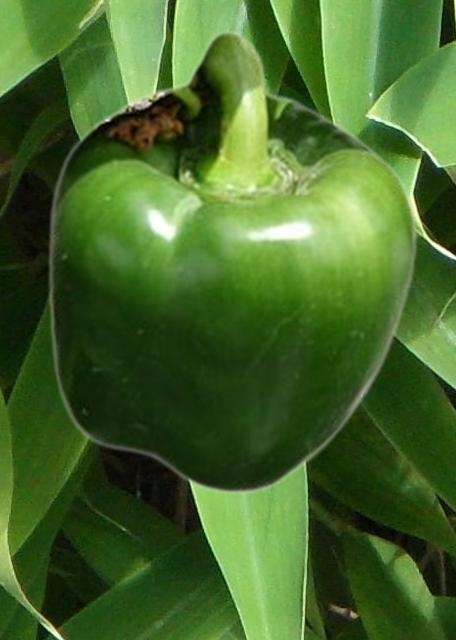bell_pepper: (46, 29, 417, 495)
